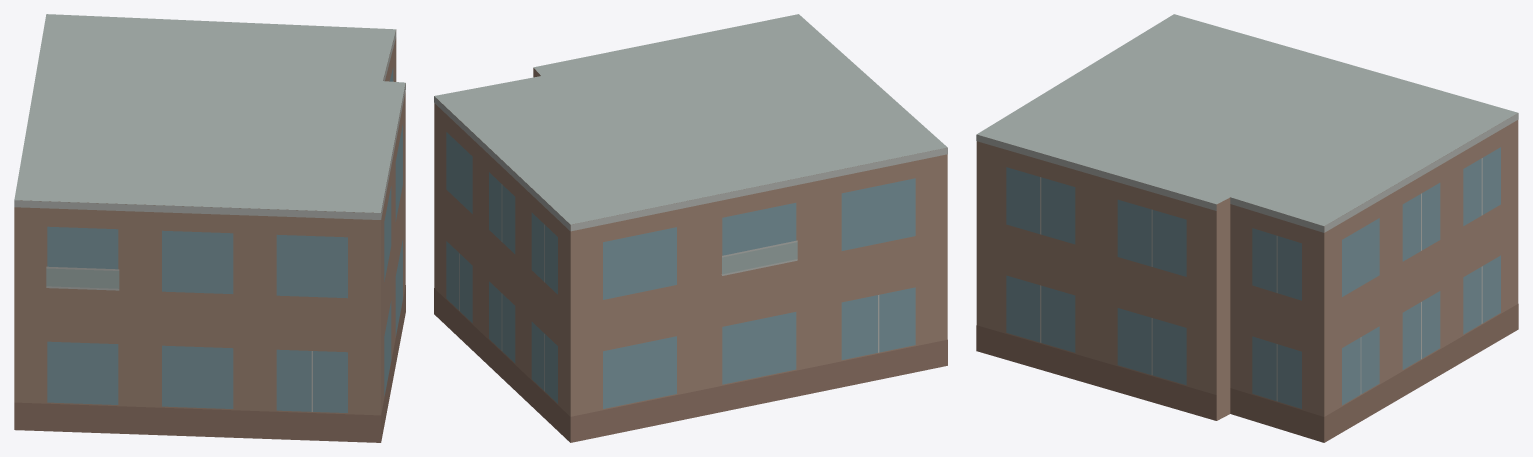
The model's file is survey-upis-32836781.glb.
3 views of the same model, side by side, from view 1: azimuth 30°, elevation 25°; view 2: azimuth 150°, elevation 25°; view 3: azimuth 270°, elevation 25° (orthographic). The views are drawn at different scales.
Parts seen in each view (by area): view 1: survey-upis-32836781.tmp; view 2: survey-upis-32836781.tmp; view 3: survey-upis-32836781.tmp.
Part boxes in pixels (box(x1,y1,x2,y2)): survey-upis-32836781.tmp: box(14, 14, 405, 442); survey-upis-32836781.tmp: box(434, 14, 947, 442); survey-upis-32836781.tmp: box(976, 14, 1518, 442).
Bounding box in the file's own units: 16.61 × 7.9 × 17.92.
